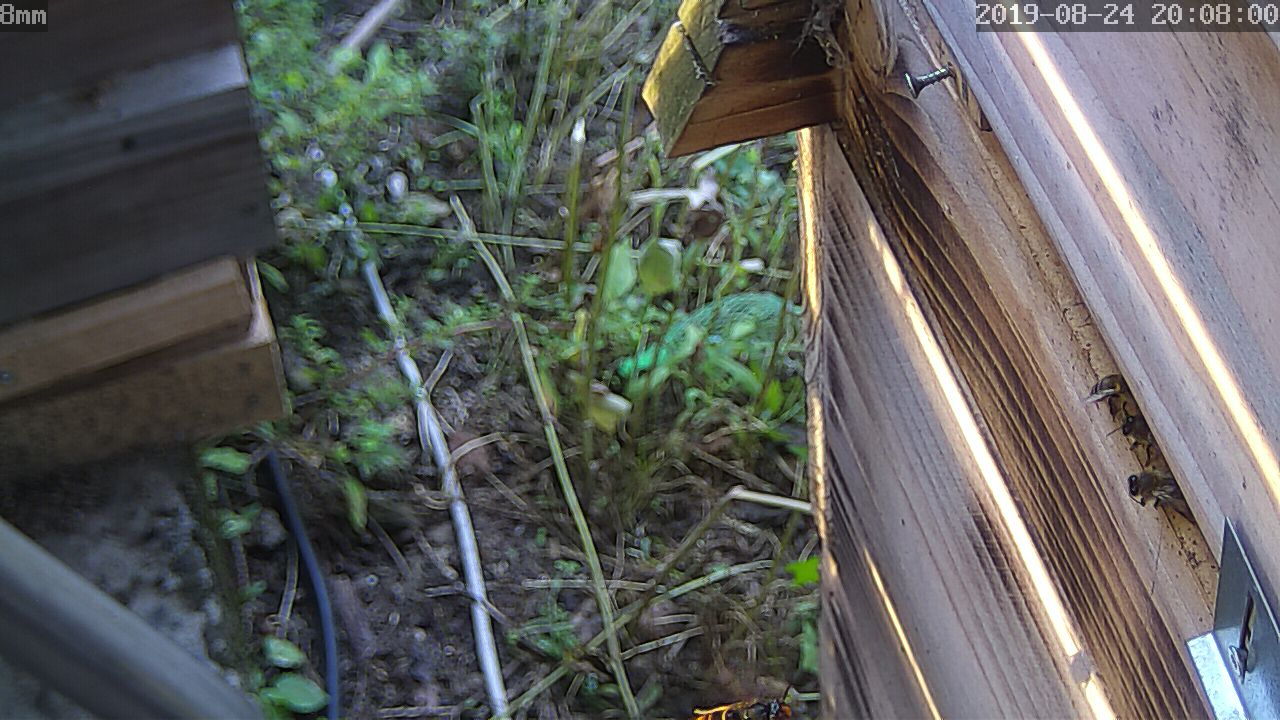bee: (1117, 459, 1198, 518), (1088, 364, 1142, 428), (1104, 413, 1166, 455)
hornet: (696, 682, 809, 719)
